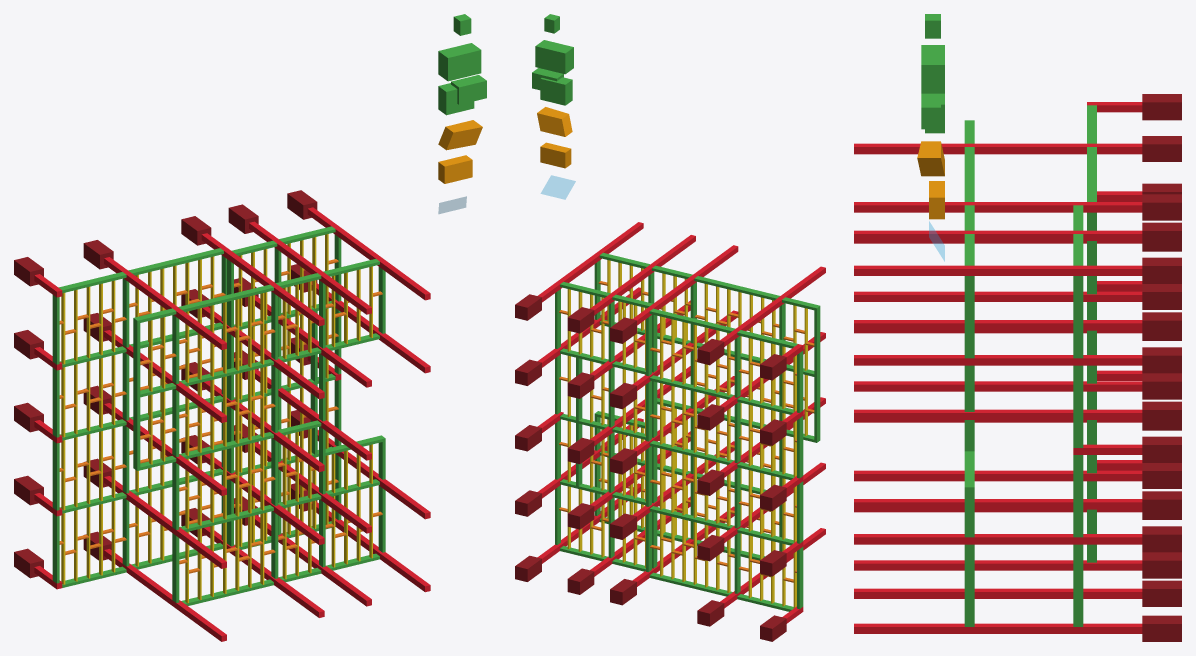
The model's file is tinker.obj.
3 renders of one model, left to right at view 1: azimuth 30°, elevation 25°; view 2: azimuth 150°, elevation 25°; view 3: azimuth 270°, elevation 25°, orthographic. The views are drawn at different scales.
Parts seen in each view (by area): view 1: obj_2, obj_4, obj_1, obj_3, obj_20, obj_15, obj_13, obj_11, obj_6, obj_21, obj_7, obj_16 (+12 smaller); view 2: obj_1, obj_2, obj_3, obj_4, obj_419, obj_420, obj_9, obj_418, obj_7, obj_13, obj_21, obj_23 (+43 smaller); view 3: obj_16, obj_4, obj_9, obj_18, obj_23, obj_3, obj_13, obj_1, obj_8, obj_17, obj_22, obj_12 (+49 smaller).
Part boxes in pixels (x1,y1,x2,y2): obj_2: (201, 233, 324, 326); obj_4: (307, 207, 430, 300); obj_1: (104, 257, 226, 349); obj_3: (249, 221, 371, 314); obj_20: (104, 549, 226, 641); obj_15: (104, 476, 226, 568); obj_13: (255, 369, 371, 460); obj_11: (104, 403, 226, 495); obj_6: (104, 330, 226, 422); obj_21: (202, 526, 324, 617); obj_7: (202, 306, 324, 399); obj_16: (202, 453, 324, 544); obj_1: (720, 266, 825, 346); obj_2: (632, 245, 738, 325); obj_3: (590, 235, 695, 315); obj_4: (538, 222, 643, 302); obj_419: (537, 107, 572, 136); obj_420: (540, 77, 572, 105); obj_9: (537, 287, 640, 367); obj_418: (540, 142, 571, 168); obj_7: (632, 310, 738, 390); obj_13: (590, 366, 690, 445); obj_21: (632, 506, 734, 586); obj_23: (537, 483, 640, 563); obj_16: (854, 470, 1142, 481); obj_4: (854, 265, 1142, 275); obj_9: (854, 355, 1142, 365); obj_18: (854, 534, 1142, 544); obj_23: (854, 623, 1142, 633); obj_3: (854, 230, 1142, 240); obj_13: (854, 409, 1142, 419); obj_1: (854, 143, 1142, 154); obj_8: (854, 320, 1142, 330); obj_17: (854, 499, 1142, 509); obj_22: (854, 588, 1142, 598); obj_12: (854, 381, 1142, 391).
Size of the model in its own units: 132 by 184 by 83.
